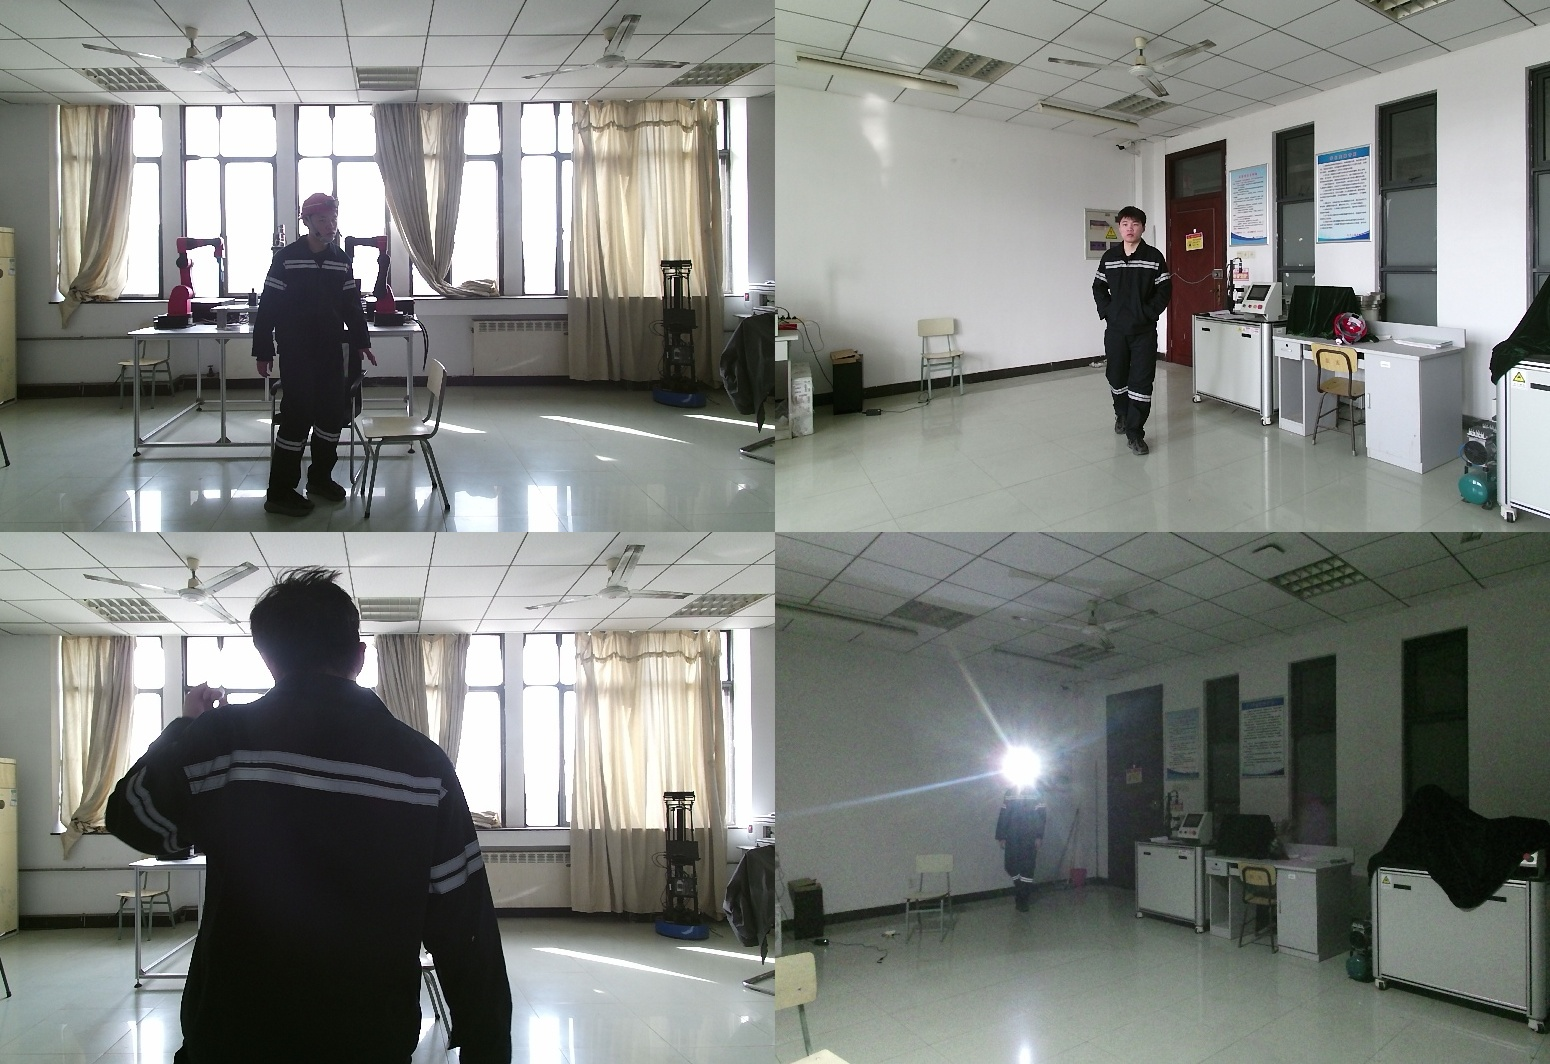person: (112, 573, 511, 1064), (256, 191, 388, 511), (1090, 207, 1177, 454), (995, 762, 1050, 915)
